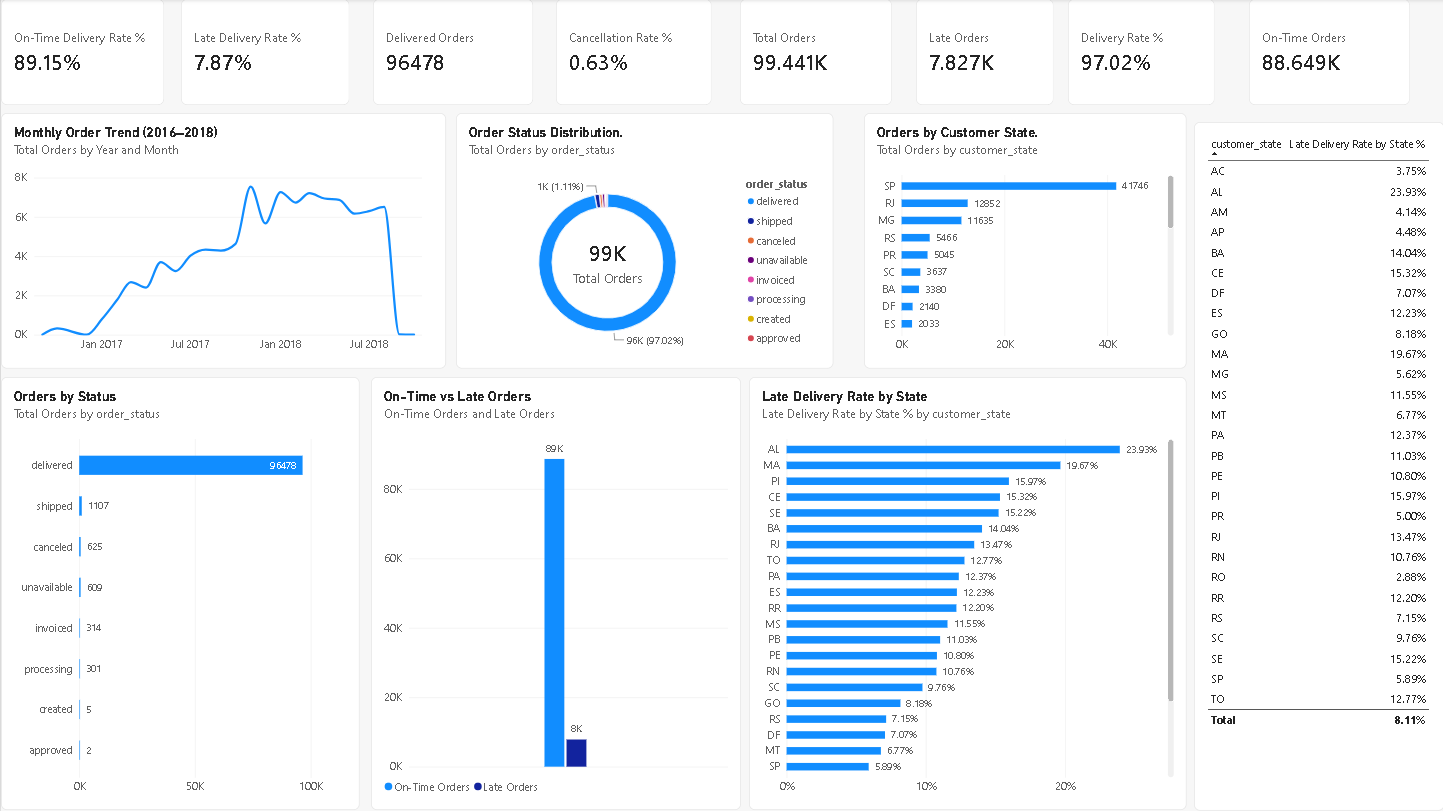

Layout of this report page (visuals, bound fields, positions):
{"tool":"powerbi","page":{"name":"Page 1","canvas":[1920,1080],"ordinal":0},"visuals":[{"type":"cardVisual","fields":{"Data":["olist_orders_dataset.Delivered Orders"]},"box":[494.6,0,213,141.5],"z":0},{"type":"cardVisual","fields":{"Data":["olist_orders_dataset.Total Orders"]},"box":[983.3,0,202.8,141.5],"z":1000},{"type":"cardVisual","fields":{"Data":["olist_orders_dataset.Delivery Rate %"]},"box":[1419.6,0,195.5,141.5],"z":2000},{"type":"cardVisual","fields":{"Data":["olist_orders_dataset.Cancellation Rate %"]},"box":[738.2,0,207.2,141.5],"z":3000},{"type":"cardVisual","title":"On-Time delivery rate","fields":{"Data":["olist_orders_dataset.On-Time Delivery Rate %"]},"box":[0,0,217.4,141.5],"z":4000},{"type":"cardVisual","fields":{"Data":["olist_orders_dataset.Late Orders"]},"box":[1216.8,0,183.8,141.5],"z":5000},{"type":"cardVisual","fields":{"Data":["olist_orders_dataset.Late Delivery Rate %"]},"box":[239.3,0,224.7,141.5],"z":6000},{"type":"clusteredBarChart","title":"Orders by Status","fields":{"Category":["olist_orders_dataset.order_status"],"Y":["olist_orders_dataset.Total Orders"]},"box":[0,503.3,477.1,576.3],"z":7000},{"type":"lineChart","title":"Monthly Order Trend (2016–2018)","fields":{"Category":["olist_orders_dataset.order_purchase_timestamp.Variation.Date Hierarchy.Year","olist_orders_dataset.order_purchase_timestamp.Variation.Date Hierarchy.Month"],"Y":["olist_orders_dataset.Total Orders"]},"box":[0,151.7,592.3,339.9],"z":8000},{"type":"clusteredColumnChart","title":"On-Time vs Late Orders","fields":{"Y":["olist_orders_dataset.On-Time Orders","olist_orders_dataset.Late Orders"]},"box":[491.7,503.3,491.7,576.3],"z":9000},{"type":"donutChart","title":"Order Status Distribution.","fields":{"Category":["olist_orders_dataset.order_status"],"Y":["olist_orders_dataset.Total Orders"]},"box":[605.5,151.7,501.9,339.9],"z":10000},{"type":"clusteredBarChart","title":"Orders by Customer State.","fields":{"Category":["olist_customers_dataset.customer_state"],"Y":["olist_orders_dataset.Total Orders"]},"box":[1148.2,151.7,428.9,339.9],"z":11000},{"type":"tableEx","fields":{"Values":["olist_customers_dataset.customer_state","olist_customers_dataset.Late Delivery Rate by State %"]},"box":[1587.4,163.4,332.6,916.2],"z":12000},{"type":"clusteredBarChart","title":"Late Delivery Rate by State","fields":{"Category":["olist_customers_dataset.customer_state"],"Y":["olist_customers_dataset.Late Delivery Rate by State %"]},"box":[995,503.3,582.1,576.3],"z":13000},{"type":"cardVisual","fields":{"Data":["olist_orders_dataset.On-Time Orders"]},"box":[1660.3,0,214.5,141.5],"z":13001}]}

Visuals, with their boxes in screenshot pixels (x1, y1, x2, y2), scaled from the page's 1920x1080 canvas onto the 1443x811 screenshot:
cardVisual - olist_orders_dataset.Delivered Orders: {"x1": 372, "y1": 0, "x2": 532, "y2": 106}
cardVisual - olist_orders_dataset.Total Orders: {"x1": 739, "y1": 0, "x2": 891, "y2": 106}
cardVisual - olist_orders_dataset.Delivery Rate %: {"x1": 1067, "y1": 0, "x2": 1214, "y2": 106}
cardVisual - olist_orders_dataset.Cancellation Rate %: {"x1": 555, "y1": 0, "x2": 711, "y2": 106}
"On-Time delivery rate" cardVisual: {"x1": 0, "y1": 0, "x2": 163, "y2": 106}
cardVisual - olist_orders_dataset.Late Orders: {"x1": 915, "y1": 0, "x2": 1053, "y2": 106}
cardVisual - olist_orders_dataset.Late Delivery Rate %: {"x1": 180, "y1": 0, "x2": 349, "y2": 106}
"Orders by Status" clusteredBarChart: {"x1": 0, "y1": 378, "x2": 359, "y2": 810}
"Monthly Order Trend (2016–2018)" lineChart: {"x1": 0, "y1": 114, "x2": 445, "y2": 369}
"On-Time vs Late Orders" clusteredColumnChart: {"x1": 370, "y1": 378, "x2": 739, "y2": 810}
"Order Status Distribution." donutChart: {"x1": 455, "y1": 114, "x2": 832, "y2": 369}
"Orders by Customer State." clusteredBarChart: {"x1": 863, "y1": 114, "x2": 1185, "y2": 369}
tableEx - olist_customers_dataset.customer_state x olist_customers_dataset.Late Delivery Rate by State %: {"x1": 1193, "y1": 123, "x2": 1442, "y2": 810}
"Late Delivery Rate by State" clusteredBarChart: {"x1": 748, "y1": 378, "x2": 1185, "y2": 810}
cardVisual - olist_orders_dataset.On-Time Orders: {"x1": 1248, "y1": 0, "x2": 1409, "y2": 106}
